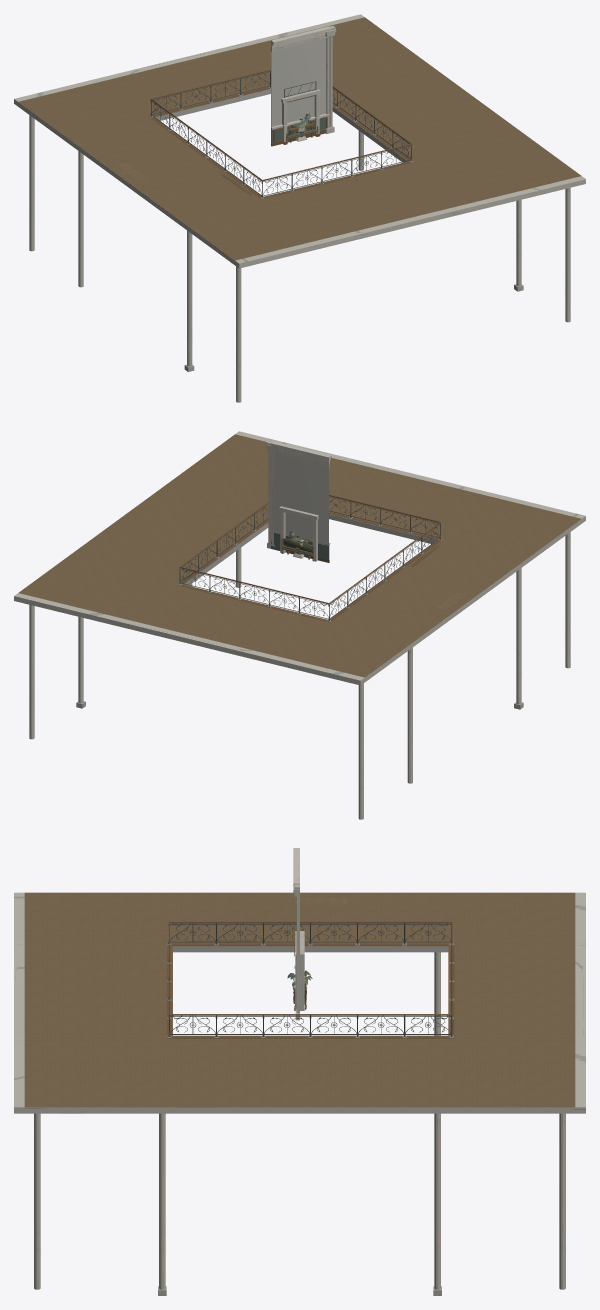
File: academic-gallery.glb
3 views of the same model, one above another, from view 1: azimuth 30°, elevation 25°; view 2: azimuth 150°, elevation 25°; view 3: azimuth 270°, elevation 25° (orthographic). The views are drawn at different scales.
Parts seen in each view (by area): view 1: gallery_floor, gallery_atrium_structure, gallery_wall_bay, gallery_roof_threshold; view 2: gallery_floor, gallery_atrium_structure, gallery_wall_bay, gallery_roof_threshold; view 3: gallery_floor, gallery_atrium_structure, gallery_wall_bay, gallery_roof_threshold.
Boxes of the visible parts, <box> form: gallery_floor: <box>18,17,581,260</box>; gallery_atrium_structure: <box>14,14,585,402</box>; gallery_wall_bay: <box>271,26,336,146</box>; gallery_roof_threshold: <box>281,81,320,144</box>; gallery_floor: <box>18,434,581,677</box>; gallery_atrium_structure: <box>14,431,585,819</box>; gallery_wall_bay: <box>266,441,331,562</box>; gallery_roof_threshold: <box>279,506,318,561</box>; gallery_floor: <box>24,892,575,1107</box>; gallery_atrium_structure: <box>14,892,585,1295</box>; gallery_wall_bay: <box>293,848,299,1020</box>; gallery_roof_threshold: <box>294,931,304,1010</box>.
Size of the model in its own units: 24 by 16.99 by 27.
1 material, 1 textured.
